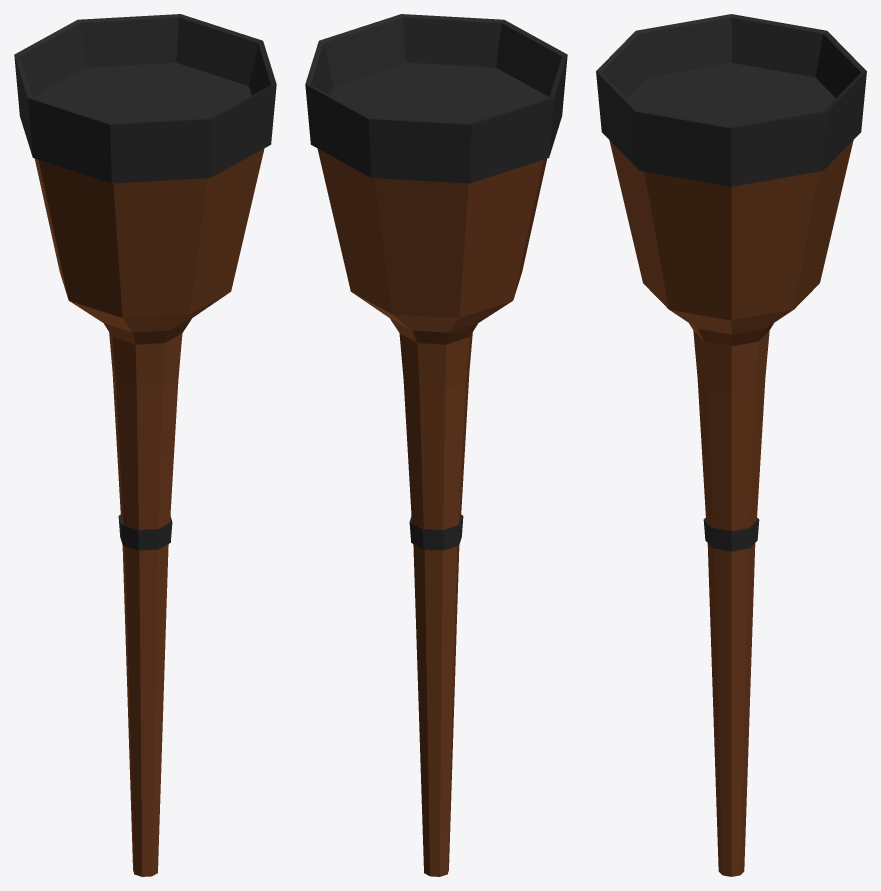
The model's file is Torch 1.fbx.
3 renders of one model, left to right at view 1: azimuth 30°, elevation 25°; view 2: azimuth 150°, elevation 25°; view 3: azimuth 270°, elevation 25°, orthographic.
Visible parts, largest first — view 1: Cylinder; view 2: Cylinder; view 3: Cylinder.
Part boxes in pixels (bbox=[...]): Cylinder: bbox=[14, 14, 276, 876]; Cylinder: bbox=[305, 14, 567, 876]; Cylinder: bbox=[596, 14, 866, 876].
Size of the model in its own units: 310 by 310 by 1012.
